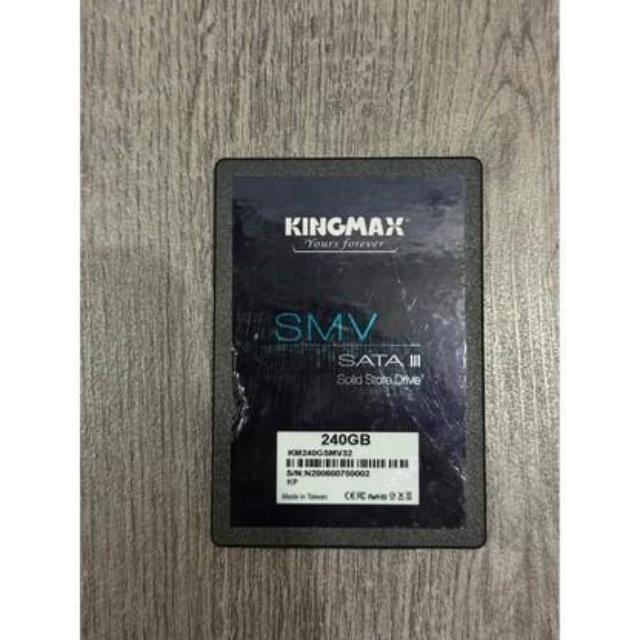DISK: (210, 156, 493, 550)
